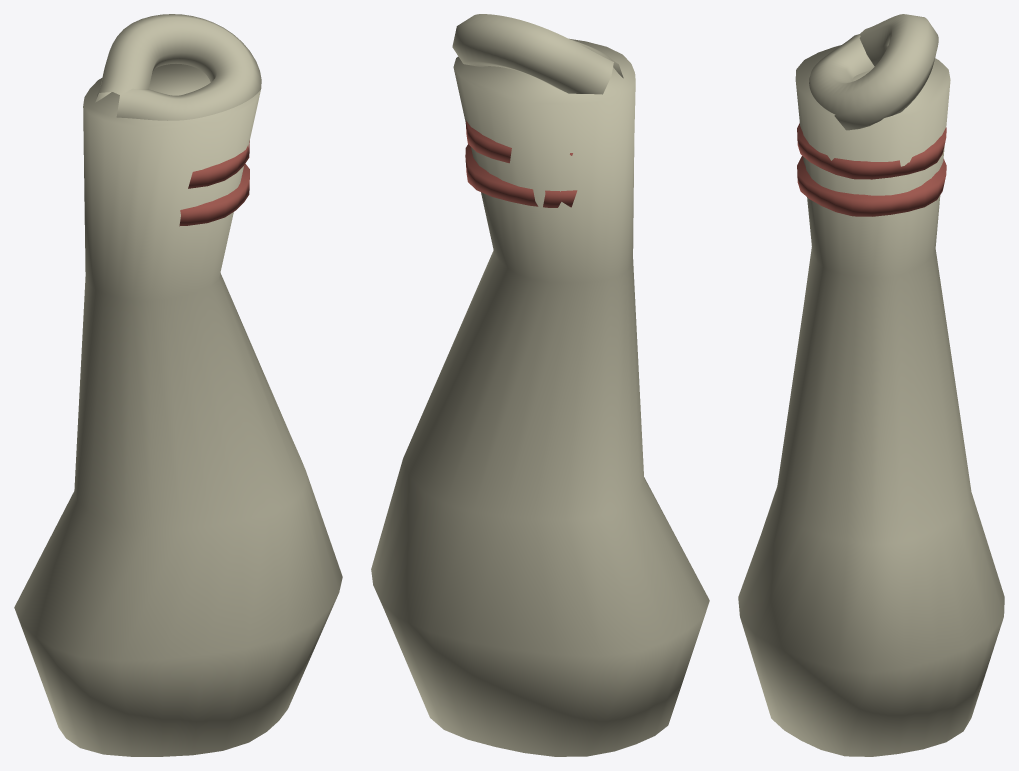
Rendered from battery-sock.glb.
3 renders of one model, left to right at view 1: azimuth 30°, elevation 25°; view 2: azimuth 150°, elevation 25°; view 3: azimuth 270°, elevation 25°, orthographic. The views are drawn at different scales.
Visible parts, largest first — view 1: Lumpy cotton, Knotted cuff, Sports stripe, Sports stripe.001; view 2: Lumpy cotton, Knotted cuff, Sports stripe, Sports stripe.001; view 3: Lumpy cotton, Knotted cuff, Sports stripe, Sports stripe.001.
Boxes of the visible parts, <box> form: Lumpy cotton: <box>14,64,342,756</box>; Knotted cuff: <box>95,14,261,120</box>; Sports stripe: <box>179,164,249,226</box>; Sports stripe.001: <box>188,140,249,188</box>; Lumpy cotton: <box>371,38,709,756</box>; Knotted cuff: <box>452,14,623,94</box>; Sports stripe: <box>465,144,577,207</box>; Sports stripe.001: <box>465,120,572,163</box>; Lumpy cotton: <box>738,45,1004,756</box>; Knotted cuff: <box>809,14,938,130</box>; Sports stripe: <box>797,156,946,216</box>; Sports stripe.001: <box>797,123,946,179</box>.
Size of the model in its own units: 0.3395 by 0.735 by 0.259.
